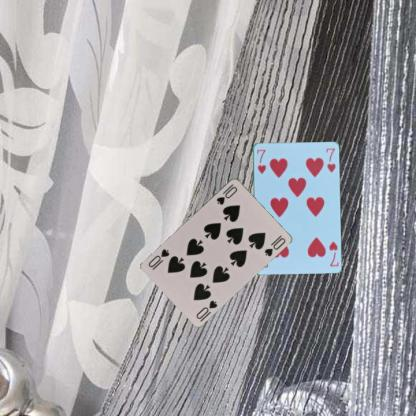10s: (214, 181, 238, 206), (194, 298, 218, 320)
7h: (254, 147, 267, 174), (327, 239, 339, 267)
